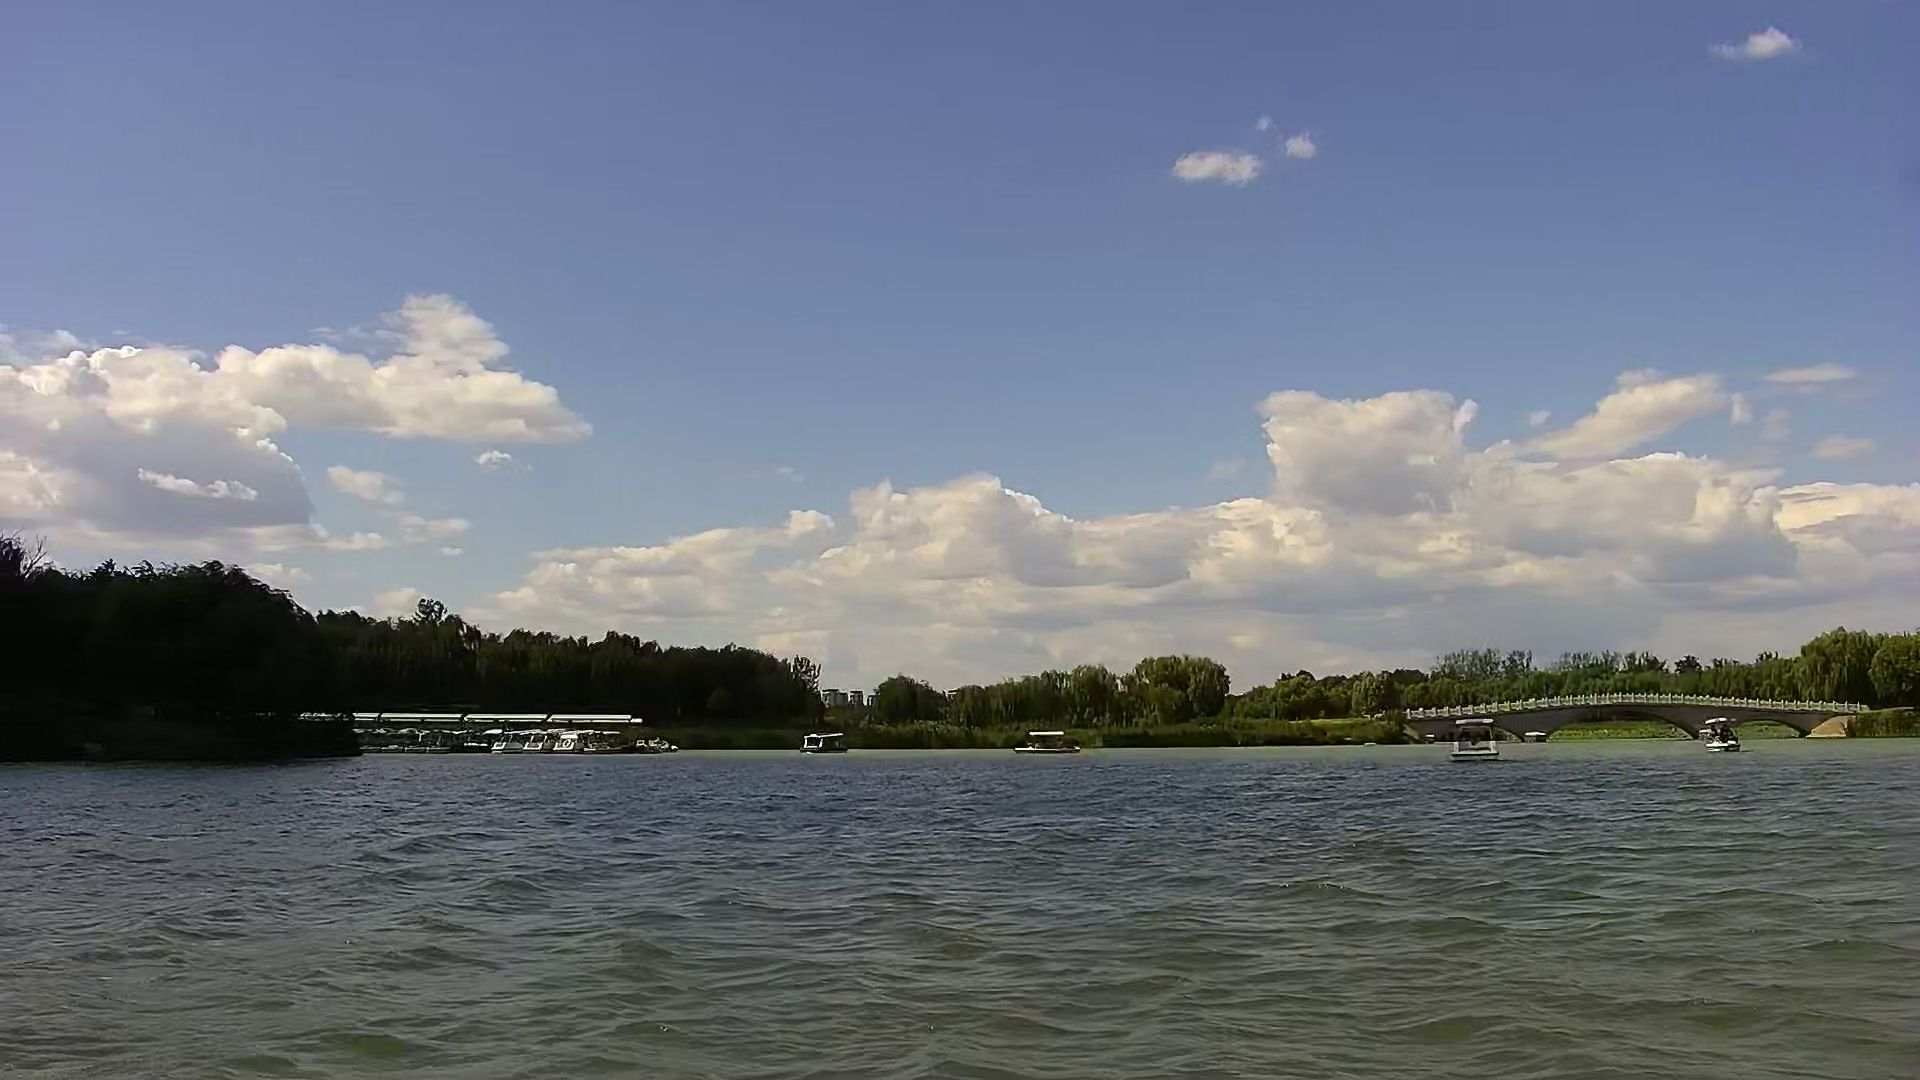boat: (1441, 716, 1513, 774), (1693, 712, 1763, 754), (551, 728, 629, 762), (793, 727, 861, 764), (1011, 724, 1087, 754), (529, 723, 568, 760), (489, 727, 529, 754)
bridge: (1389, 684, 1876, 742)
